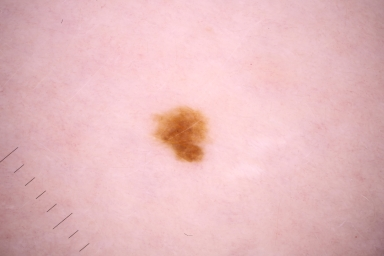nevus: (157, 107, 209, 163)
